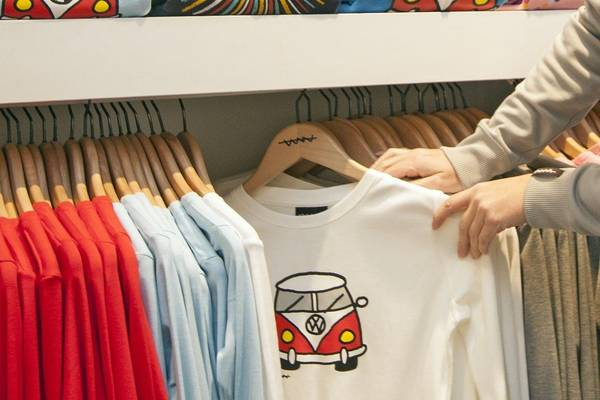blouse: (11, 168, 600, 398)
